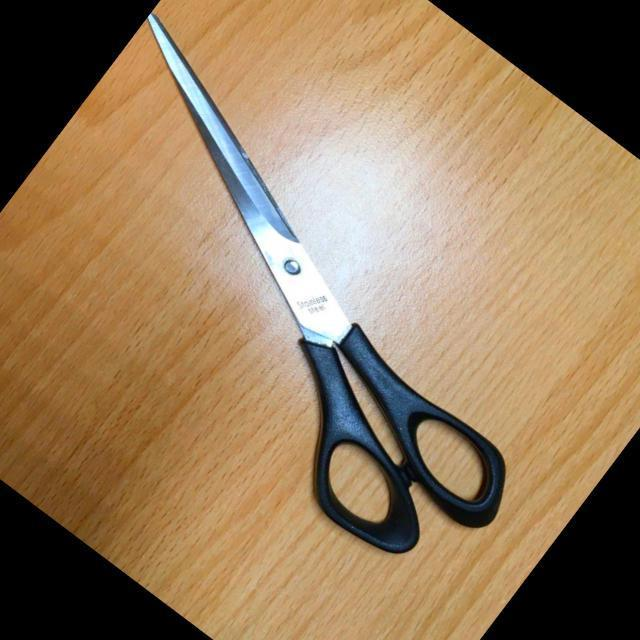scissors: (0, 8, 617, 601)
